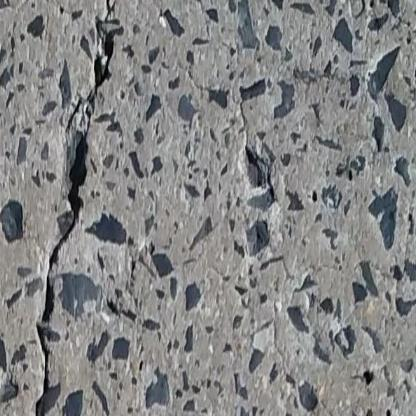Cracks: (32, 0, 122, 416)
